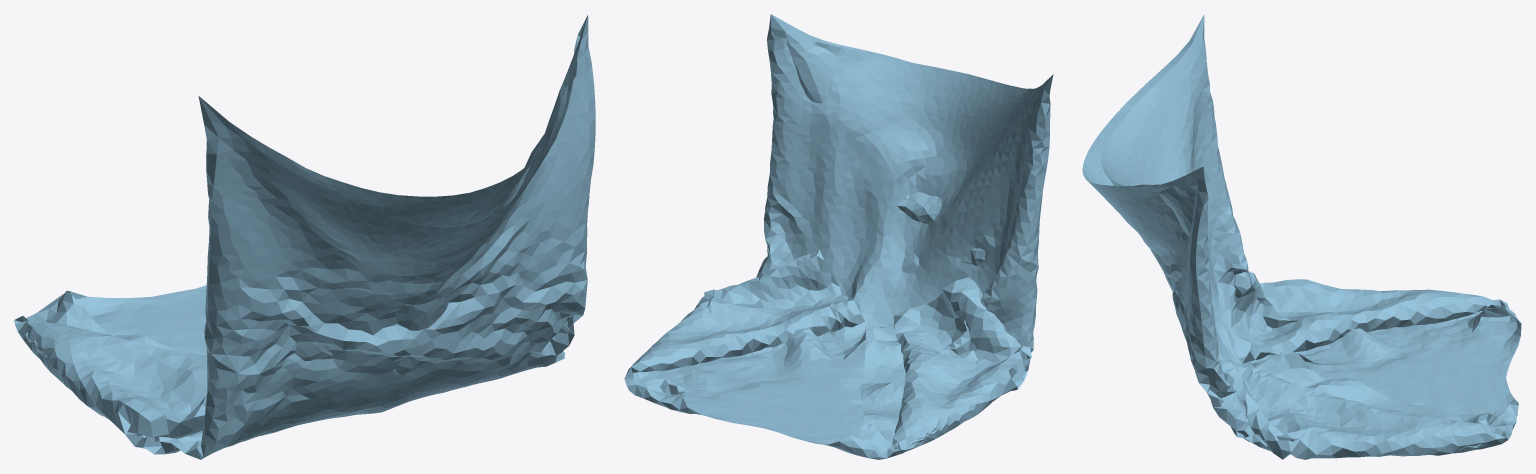
The model's file is frame_09.glb.
3 views of the same model, side by side, from view 1: azimuth 30°, elevation 25°; view 2: azimuth 150°, elevation 25°; view 3: azimuth 270°, elevation 25° (orthographic). The views are drawn at different scales.
Visible parts, largest first — view 1: frame_09.obj; view 2: frame_09.obj; view 3: frame_09.obj.
Boxes of the visible parts, <box> form: frame_09.obj: <box>14,15,595,459</box>; frame_09.obj: <box>624,14,1053,459</box>; frame_09.obj: <box>1082,14,1521,459</box>.
Size of the model in its own units: 1.2 by 1.03 by 1.38.
